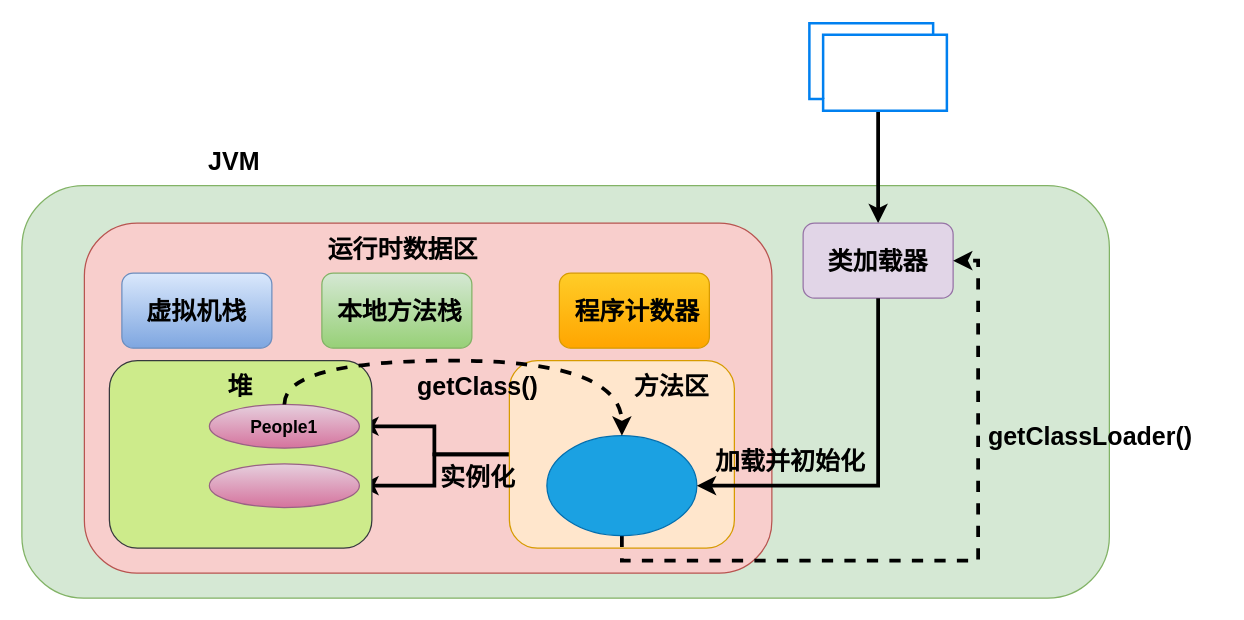
The diagram is 1244 pixels wide and 620 high, and some of its shapes have lost their labels. Here are the shapes that lost their labels. From the top down, the box of each, then its label:
(808, 21, 948, 111): People.class
(208, 462, 359, 508): People2
(546, 434, 697, 536): People Class
